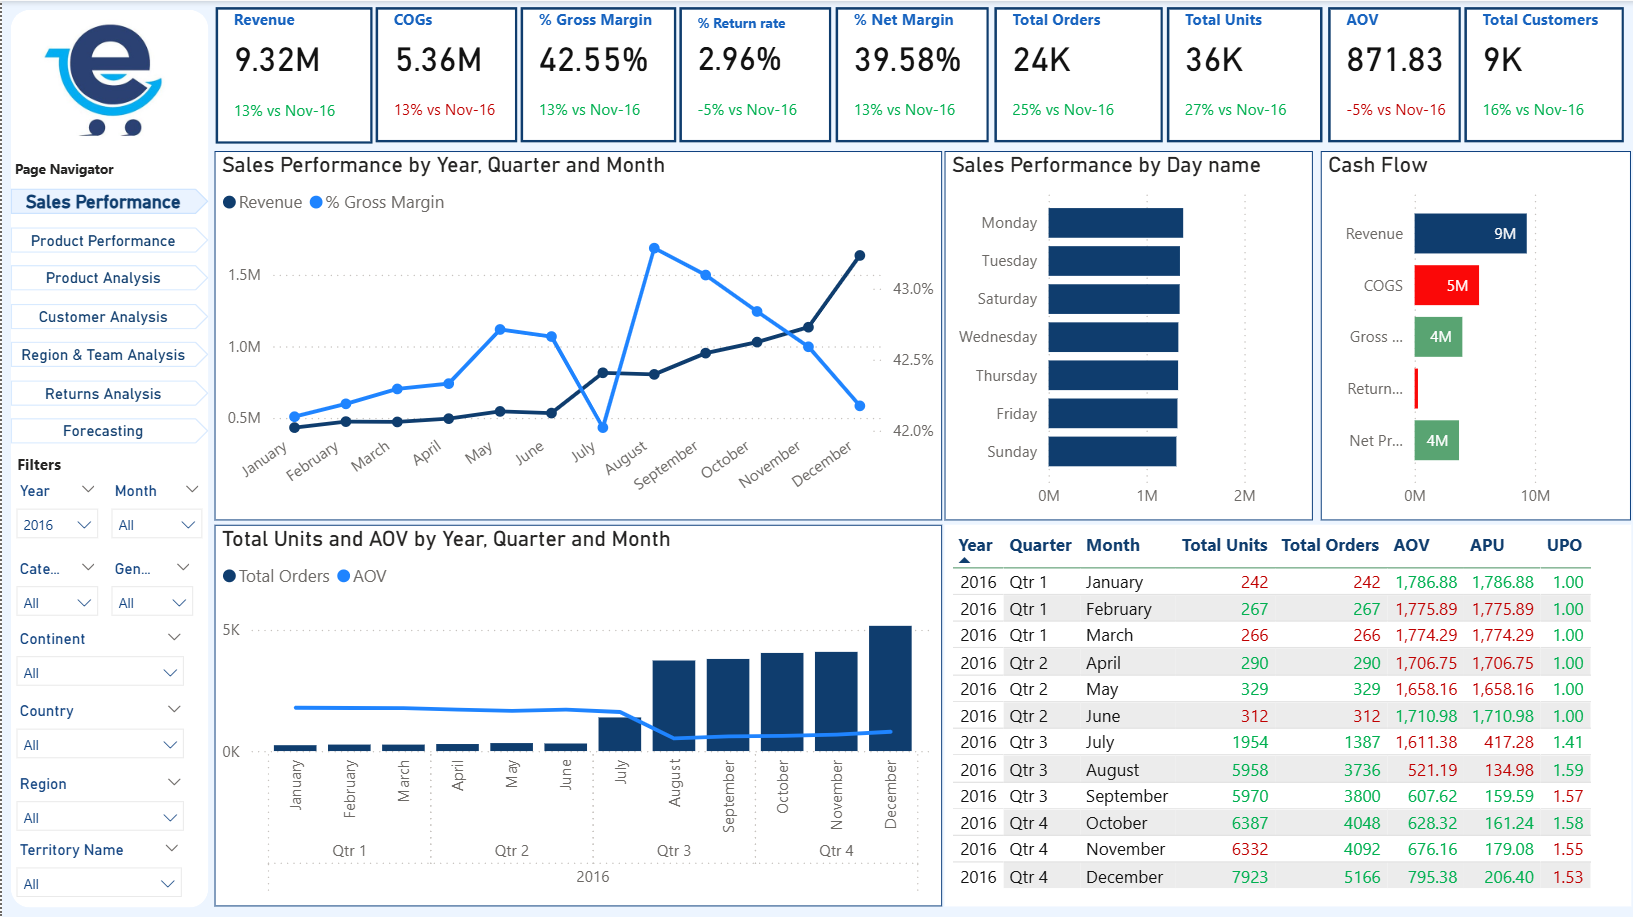

The page's visual inventory and layout, read from the dashboard file:
{"tool":"powerbi","page":{"name":"Sales Performance","canvas":[1280,720],"ordinal":0},"visuals":[{"type":"lineChart","title":"Sales Performance by Year, Quarter and Month","fields":{"Category":["gold dim_date.calendar.Variation.Date Hierarchy.Year","gold dim_date.calendar.Variation.Date Hierarchy.Quarter","gold dim_date.calendar.Variation.Date Hierarchy.Month","gold dim_date.calendar.Variation.Date Hierarchy.Day"],"Y":["All_measures.Revenue"],"Y2":["All_measures.% Gross Margin"]},"box":[166.4,117.2,570.4,289.9],"z":0},{"type":"lineStackedColumnComboChart","title":"Total Units and AOV by Year, Quarter and Month","fields":{"Category":["gold dim_date.calendar.Variation.Date Hierarchy.Year","gold dim_date.calendar.Variation.Date Hierarchy.Quarter","gold dim_date.calendar.Variation.Date Hierarchy.Month"],"Y2":["All_measures.AOV"],"Y":["All_measures.Total Orders"]},"box":[166.4,410.3,570.4,299.3],"z":1000},{"type":"cardVisual","fields":{"Data":["All_measures.Revenue"]},"box":[162.3,0,133.9,117],"z":2000},{"type":"cardVisual","fields":{"Data":["All_measures.% Gross Margin"]},"box":[401.5,0,132.8,116.7],"z":3000},{"type":"cardVisual","fields":{"Data":["All_measures.% Return rate"]},"box":[526.3,0,129.8,116.7],"z":4000},{"type":"cardVisual","fields":{"Data":["All_measures.% Net Margin"]},"box":[649.1,0,130.8,116.7],"z":5000},{"type":"cardVisual","fields":{"Data":["All_measures.Total Orders"]},"box":[772.8,0,142.9,116.7],"z":6000},{"type":"cardVisual","fields":{"Data":["All_measures.COGs"]},"box":[287.8,0,121.8,116.7],"z":7000},{"type":"cardVisual","fields":{"Data":["All_measures.AOV"]},"box":[1034.5,0,114.7,116.7],"z":8000},{"type":"cardVisual","fields":{"Data":["All_measures.Total Customers"]},"box":[1141.1,0,135.8,116.7],"z":9000},{"type":"barChart","title":"Sales Performance by Day name","fields":{"Category":["gold dim_date.Day Name"],"Y":["All_measures.Revenue"]},"box":[738.9,117.2,288.9,289.9],"z":10000},{"type":"clusteredBarChart","title":"Cash Flow","fields":{"Category":["Waterfall Table.Step"],"Y":["Waterfall Table.Waterfall Value"]},"box":[1034,117.2,242.8,289.9],"z":11000},{"type":"tableEx","fields":{"Values":["gold dim_date.calendar.Variation.Date Hierarchy.Year","gold dim_date.calendar.Variation.Date Hierarchy.Quarter","gold dim_date.calendar.Variation.Date Hierarchy.Month","All_measures.Total Units","All_measures.Total Orders","All_measures.AOV","All_measures.APU","All_measures.UPO"]},"box":[739.2,410.6,538.2,299.3],"z":12000},{"type":"cardVisual","fields":{"Data":["All_measures.Total Units"]},"box":[908.7,0,132.8,116.7],"z":13000},{"type":"shape","box":[7.3,6.4,155,703.8],"z":14000},{"type":"image","box":[25.2,6,114.7,110.7],"z":15000},{"type":"textbox","box":[5,116.7,112.7,30.2],"z":16000},{"type":"textbox","box":[7,349.2,56.4,33.2],"z":17000},{"type":"slicer","fields":{"Values":["gold dim_date.calendar.Variation.Date Hierarchy.Year"]},"box":[1,372.3,84.5,60.4],"z":18000},{"type":"slicer","fields":{"Values":["gold dim_products.category_name"]},"box":[1,432.7,84.5,55.3],"z":19000},{"type":"slicer","fields":{"Values":["gold dim_territories.continent"]},"box":[1,488.1,151.9,56.4],"z":20000},{"type":"slicer","fields":{"Values":["gold dim_territories.country"]},"box":[1,544.4,151.9,57.4],"z":21000},{"type":"slicer","fields":{"Values":["gold dim_territories.region"]},"box":[1,601.8,151.9,61.4],"z":22000},{"type":"slicer","fields":{"Values":["gold dim_territories.territory_name"]},"box":[1,653.1,149.9,56.4],"z":23000},{"type":"pageNavigator","box":[7.3,146.8,155,202.3],"z":24000},{"type":"slicer","fields":{"Values":["gold dim_customers.gender"]},"box":[75.5,432.7,84.5,55.3],"z":25000},{"type":"slicer","fields":{"Values":["gold dim_date.calendar.Variation.Date Hierarchy.Month"]},"box":[75.5,372.3,91.6,60.4],"z":26000}]}

Visuals, with their boxes in screenshot pixels (x1, y1, x2, y2), scaled from the page's 1280x720 canvas onto the 1633x917 screenshot:
"Sales Performance by Year, Quarter and Month" lineChart: left=212, top=149, right=940, bottom=518
"Total Units and AOV by Year, Quarter and Month" lineStackedColumnComboChart: left=212, top=523, right=940, bottom=904
cardVisual - All_measures.Revenue: left=207, top=0, right=378, bottom=149
cardVisual - All_measures.% Gross Margin: left=512, top=0, right=682, bottom=149
cardVisual - All_measures.% Return rate: left=671, top=0, right=837, bottom=149
cardVisual - All_measures.% Net Margin: left=828, top=0, right=995, bottom=149
cardVisual - All_measures.Total Orders: left=986, top=0, right=1168, bottom=149
cardVisual - All_measures.COGs: left=367, top=0, right=523, bottom=149
cardVisual - All_measures.AOV: left=1320, top=0, right=1466, bottom=149
cardVisual - All_measures.Total Customers: left=1456, top=0, right=1629, bottom=149
"Sales Performance by Day name" barChart: left=943, top=149, right=1311, bottom=518
"Cash Flow" clusteredBarChart: left=1319, top=149, right=1629, bottom=518
tableEx - gold dim_date.calendar.Variation.Date Hierarchy.Year x gold dim_date.calendar.Variation.Date Hierarchy.Quarter: left=943, top=523, right=1630, bottom=904
cardVisual - All_measures.Total Units: left=1159, top=0, right=1329, bottom=149
shape: left=9, top=8, right=207, bottom=905
image: left=32, top=8, right=178, bottom=149
textbox: left=6, top=149, right=150, bottom=187
textbox: left=9, top=445, right=81, bottom=487
slicer - gold dim_date.calendar.Variation.Date Hierarchy.Year: left=1, top=474, right=109, bottom=551
slicer - gold dim_products.category_name: left=1, top=551, right=109, bottom=622
slicer - gold dim_territories.continent: left=1, top=622, right=195, bottom=693
slicer - gold dim_territories.country: left=1, top=693, right=195, bottom=766
slicer - gold dim_territories.region: left=1, top=766, right=195, bottom=845
slicer - gold dim_territories.territory_name: left=1, top=832, right=193, bottom=904
pageNavigator: left=9, top=187, right=207, bottom=445
slicer - gold dim_customers.gender: left=96, top=551, right=204, bottom=622
slicer - gold dim_date.calendar.Variation.Date Hierarchy.Month: left=96, top=474, right=213, bottom=551
